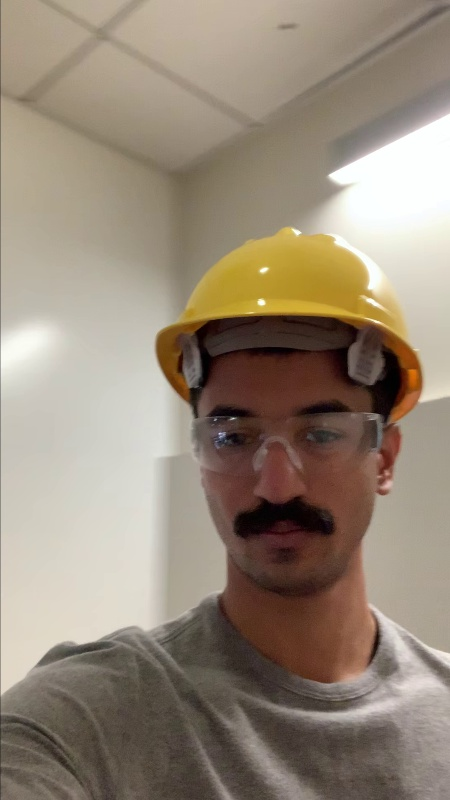glasses: (189, 408, 387, 470)
helmet: (164, 227, 415, 345)
